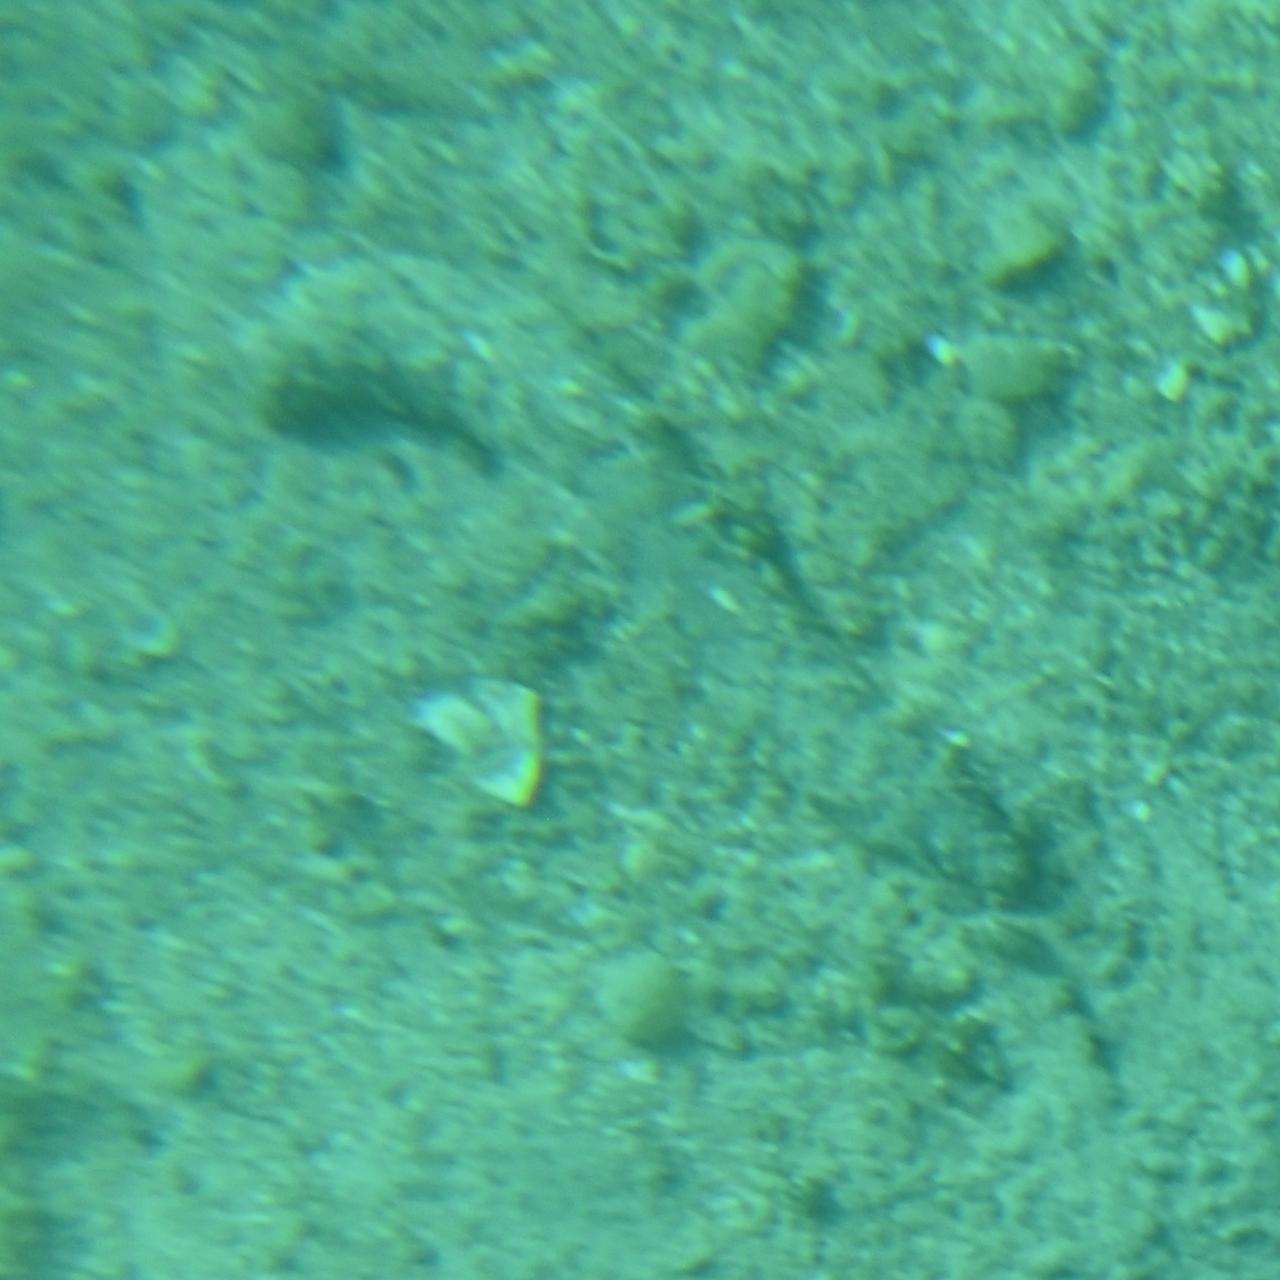Holothuria tubulosa: (234, 231, 1046, 925)
